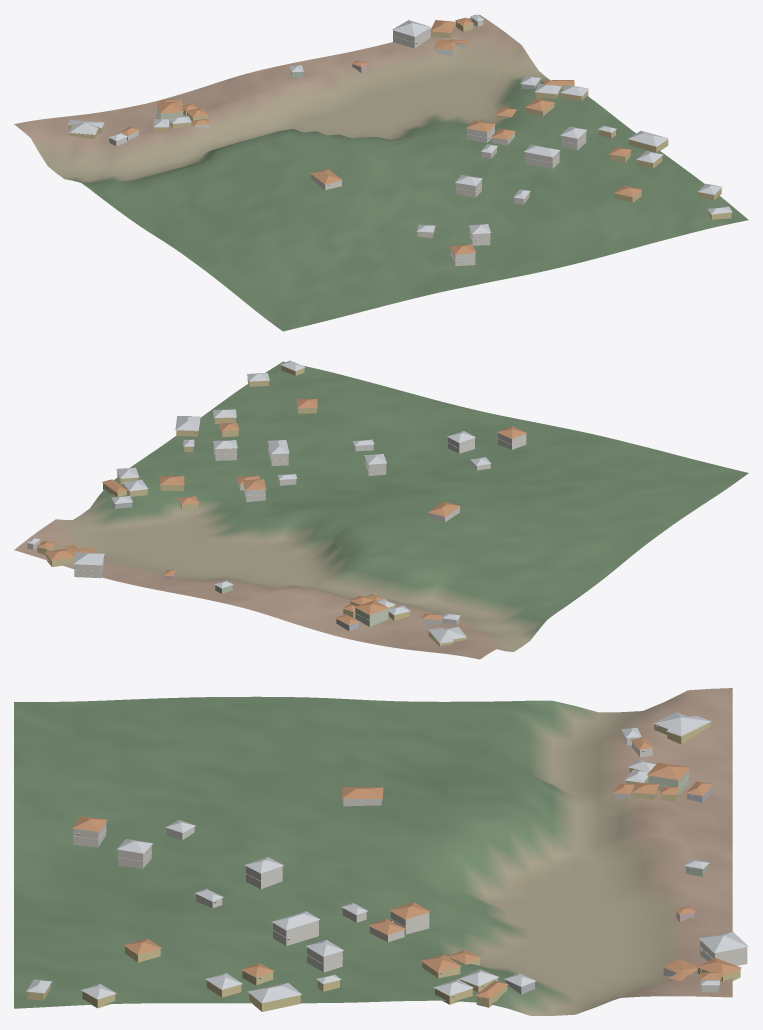
3 views of the same model, one above another, from view 1: azimuth 30°, elevation 25°; view 2: azimuth 150°, elevation 25°; view 3: azimuth 270°, elevation 25° (orthographic). The views are drawn at different scales.
Parts seen in each view (by area): view 1: Terrain-col, Buildings-col; view 2: Terrain-col, Buildings-col; view 3: Terrain-col, Buildings-col.
Boxes of the visible parts, x1=… form: Terrain-col: x1=14, y1=15, x2=748, y2=331; Buildings-col: x1=67, y1=14, x2=732, y2=265; Terrain-col: x1=14, y1=361, x2=748, y2=659; Buildings-col: x1=26, y1=360, x2=526, y2=646; Terrain-col: x1=14, y1=688, x2=732, y2=1015; Buildings-col: x1=26, y1=712, x2=748, y2=1011.
Bounding box in the file's own units: 263 × 14.52 × 262.
